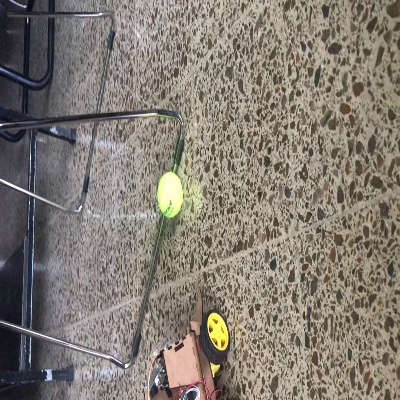Ball: (158, 171, 182, 217)
Robot: (143, 290, 228, 398)
